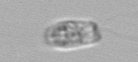plankton: (41, 16, 106, 51)
